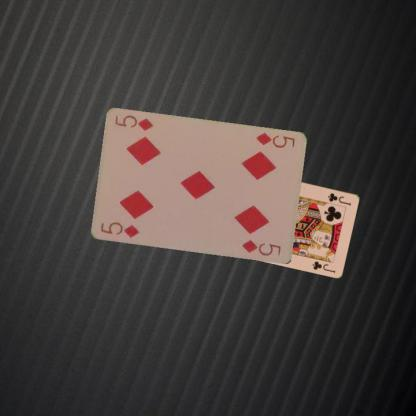5d: (252, 129, 296, 150), (98, 220, 140, 239)
Jc: (326, 190, 352, 206)
